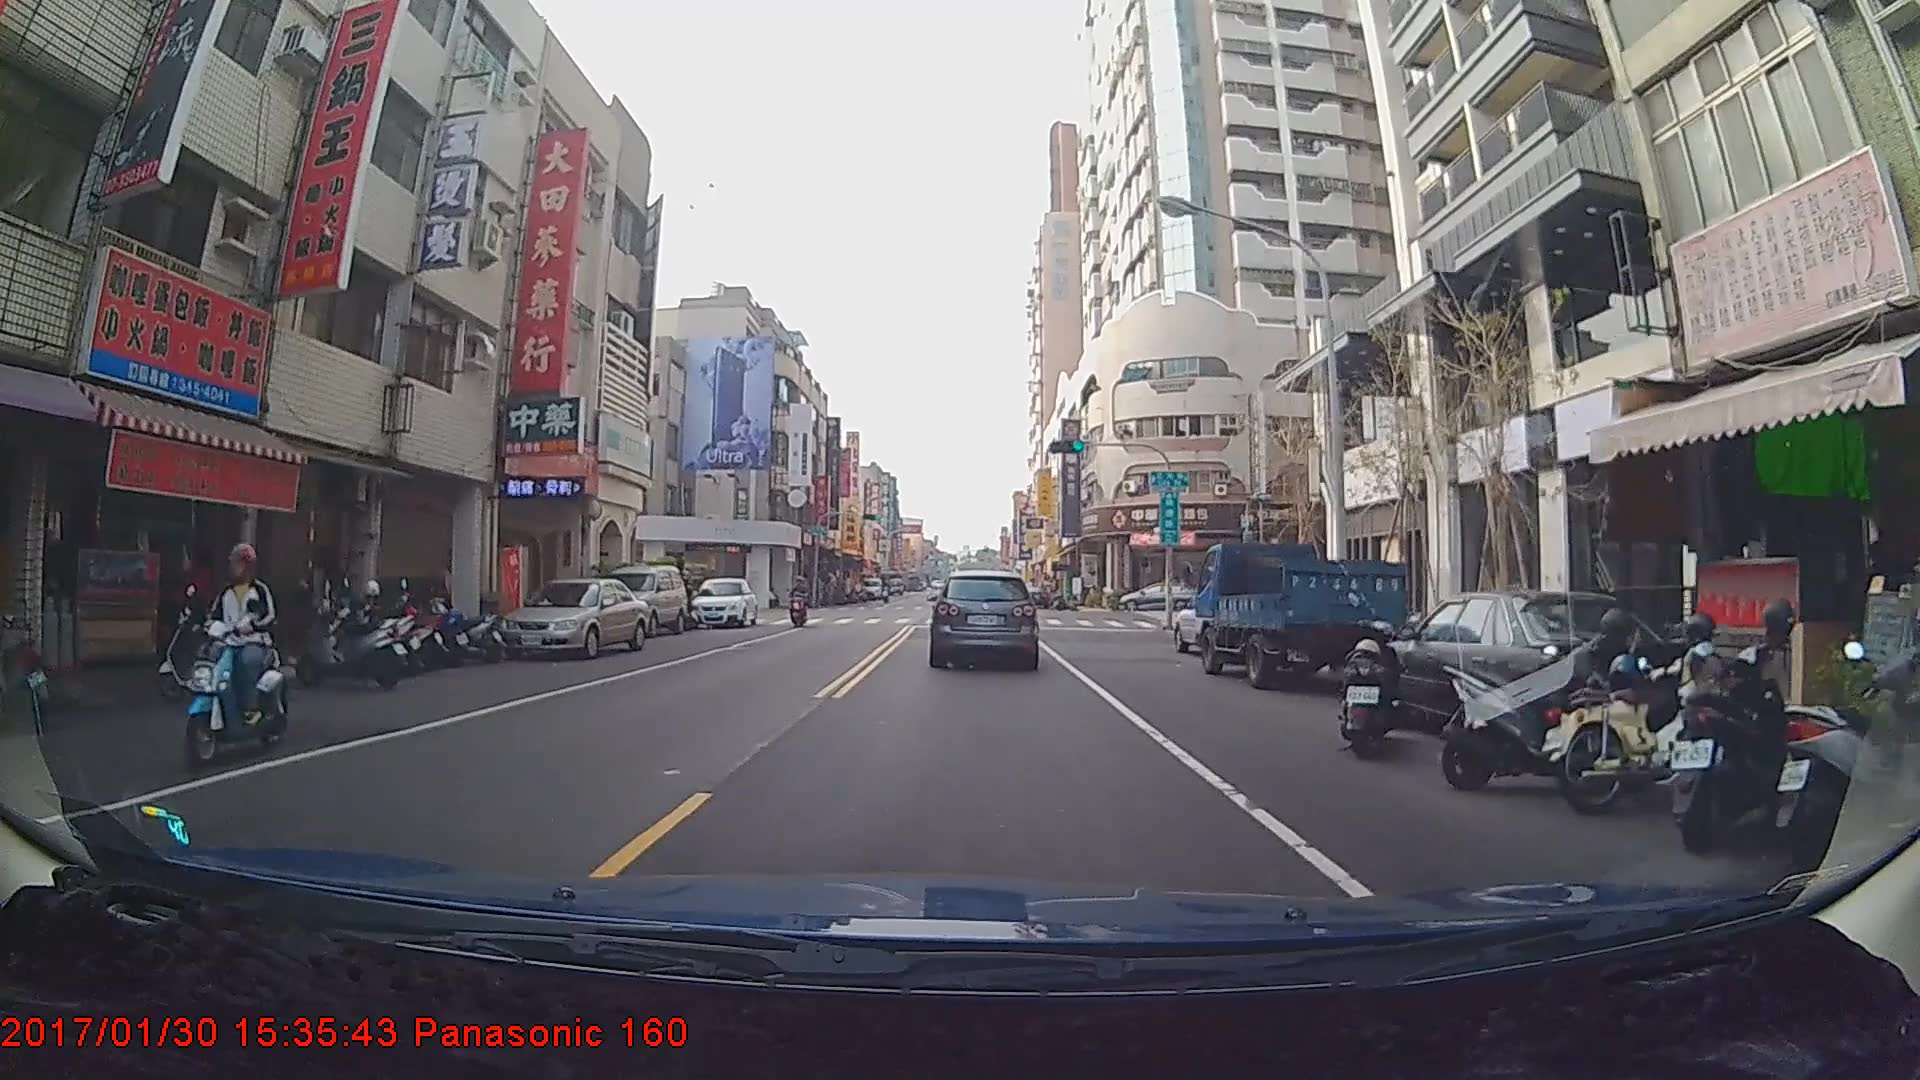rider: (176, 537, 292, 766), (789, 578, 811, 627)
vehicle: (1192, 542, 1407, 687), (494, 576, 646, 660), (931, 568, 1037, 669), (591, 561, 688, 639), (690, 575, 757, 628), (1119, 579, 1199, 611), (859, 576, 883, 600)
